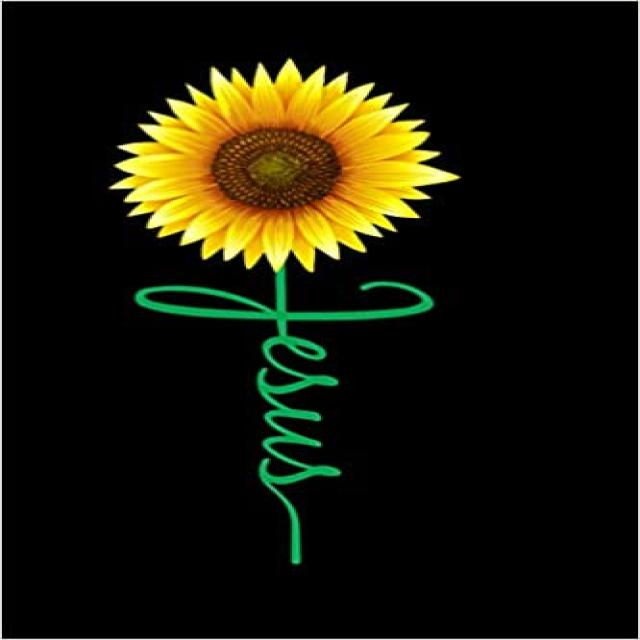sunflower: (111, 49, 464, 280)
